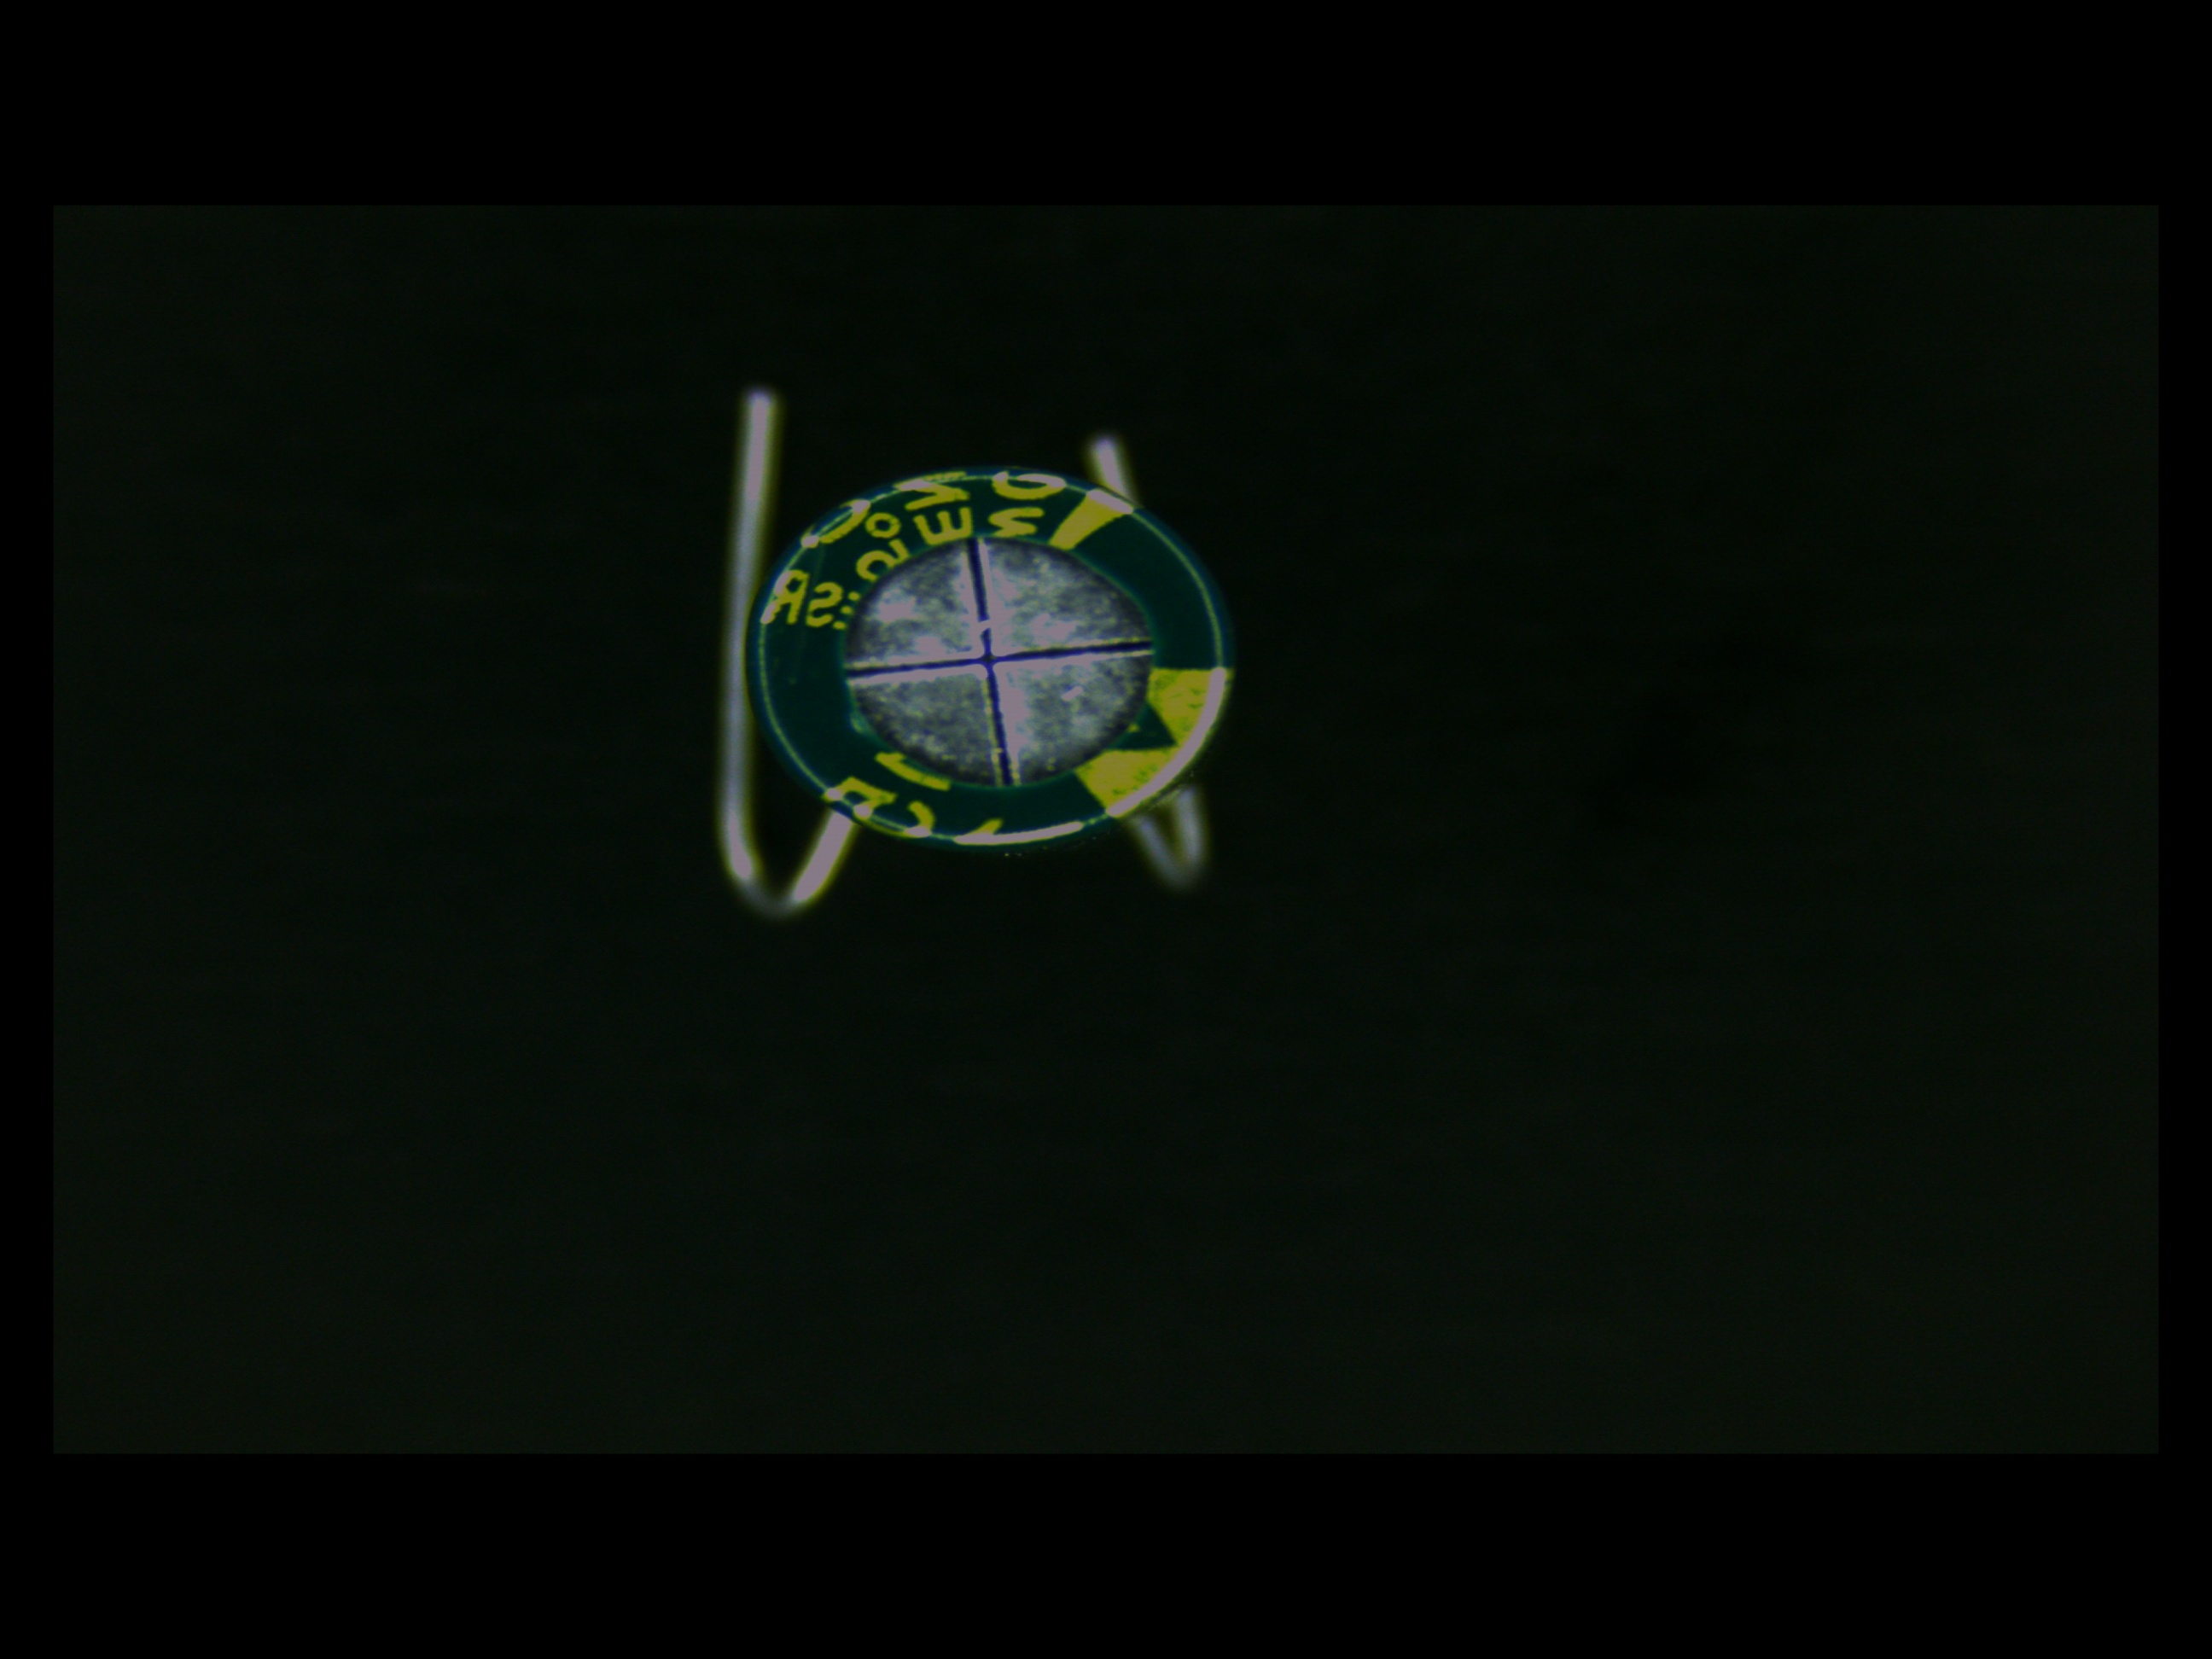c1: (744, 464, 1230, 852)
